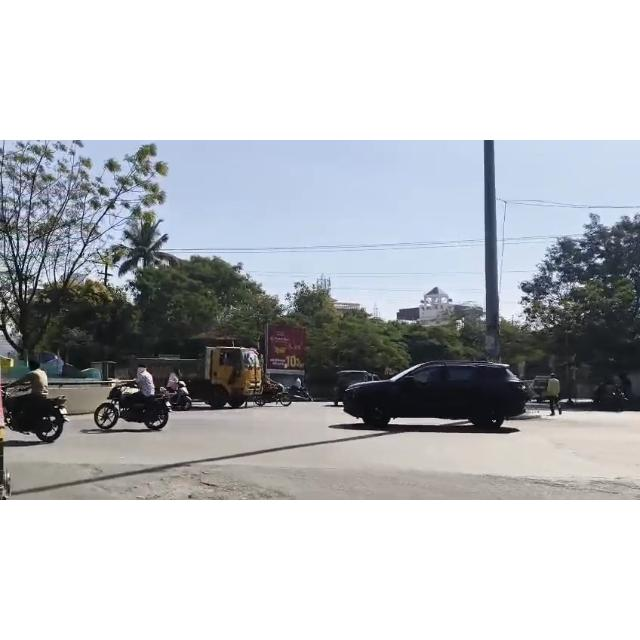car: (343, 354, 534, 434)
